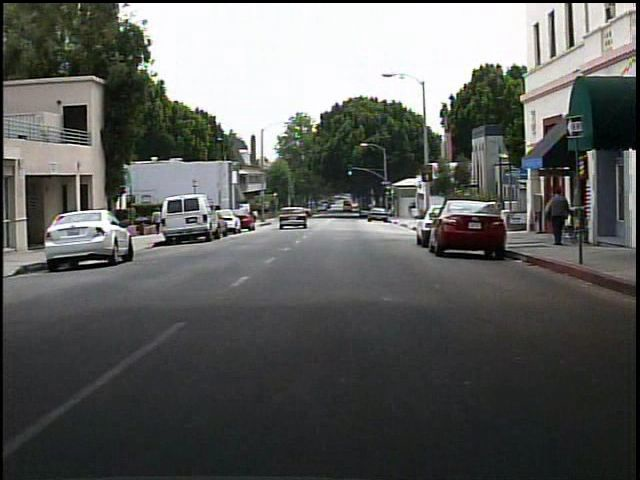person: (540, 185, 574, 250), (151, 204, 165, 234)
